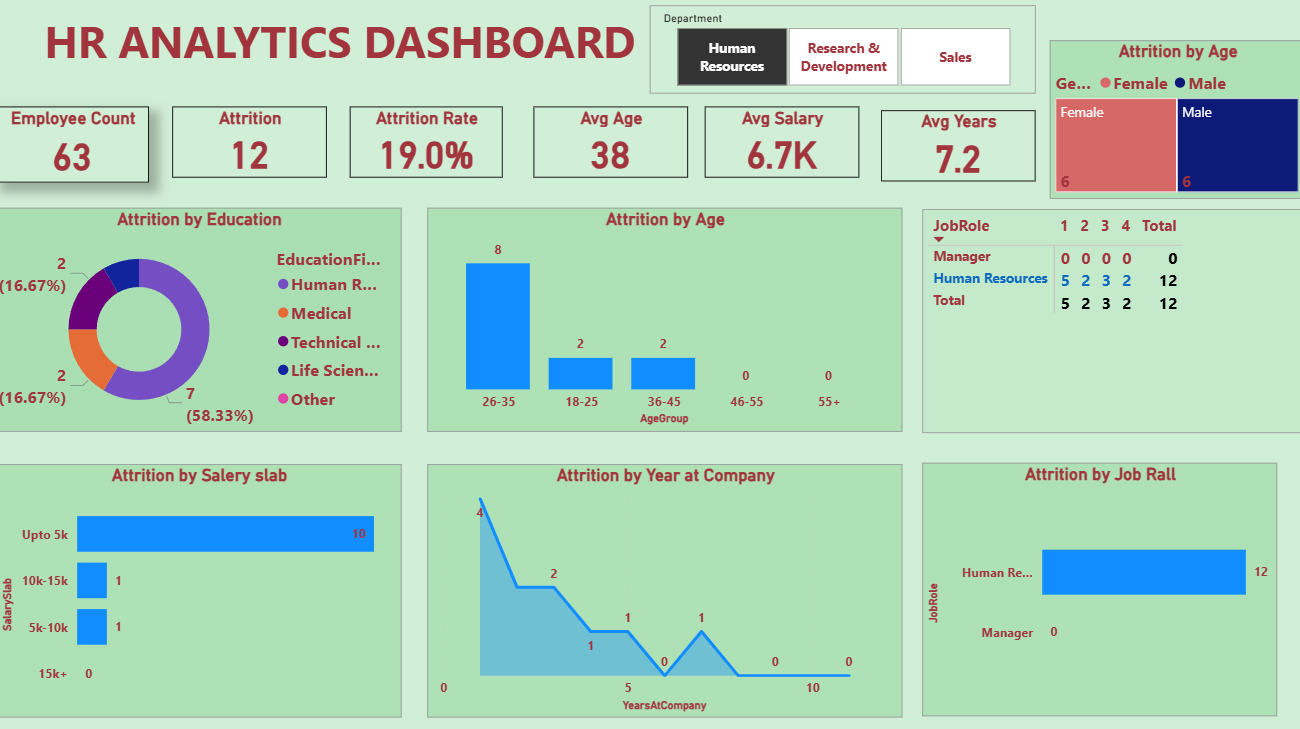

This screenshot's page, from the dashboard's own definition file:
{"tool":"powerbi","page":{"name":"Page 1","canvas":[1280,720],"ordinal":0},"visuals":[{"type":"card","title":"Employee Count","fields":{"Values":["CountNonNull(HR_Analytics.EmpID)"]},"box":[0,109.8,149.6,74.1],"z":0},{"type":"card","title":"Attrition","fields":{"Values":["Sum(HR_Analytics.Attrition Count)"]},"box":[172.9,109.8,150.9,70],"z":1000},{"type":"card","title":"Avg Age","fields":{"Values":["Avg(HR_Analytics.Age)"]},"box":[525.6,109.8,150.9,70],"z":2000},{"type":"card","title":"Attrition Rate","fields":{"Values":["HR_Analytics.Attrition Rate"]},"box":[345.8,109.8,149.6,70],"z":3000},{"type":"card","title":"Avg Salary","fields":{"Values":["Avg(HR_Analytics.MonthlyIncome)"]},"box":[693,109.8,150.9,70],"z":4000},{"type":"card","title":"Avg Years","fields":{"Values":["Avg(HR_Analytics.YearsAtCompany)"]},"box":[865.9,113.9,150.9,70],"z":5000},{"type":"donutChart","title":"Attrition by Education ","fields":{"Category":["HR_Analytics.EducationField"],"Y":["Sum(HR_Analytics.Attrition Count)"]},"box":[0,208.6,396.6,219.6],"z":6000},{"type":"columnChart","title":"Attrition by Age","fields":{"Category":["HR_Analytics.AgeGroup"],"Y":["Sum(HR_Analytics.Attrition Count)"]},"box":[421.9,209.1,464.7,218.9],"z":7000},{"type":"pivotTable","fields":{"Values":["Sum(HR_Analytics.Attrition Count)"],"Rows":["HR_Analytics.JobRole"],"Columns":["HR_Analytics.JobSatisfaction"]},"box":[906.1,210.3,374.2,218.9],"z":8000},{"type":"clusteredBarChart","title":"Attrition by Salery slab","fields":{"Category":["HR_Analytics.SalarySlab"],"Y":["Sum(HR_Analytics.Attrition Count)"]},"box":[0,459.7,396.6,248.4],"z":9000},{"type":"clusteredBarChart","title":"Attrition by Job Rall","fields":{"Category":["HR_Analytics.JobRole"],"Y":["Sum(HR_Analytics.Attrition Count)"]},"box":[906.1,458.6,347.3,248.2],"z":9001},{"type":"areaChart","title":"Attrition by Year at Company","fields":{"Category":["HR_Analytics.YearsAtCompany"],"Y":["Sum(HR_Analytics.Attrition Count)"]},"box":[421.3,459.7,465.2,248.4],"z":9002},{"type":"treemap","title":"Attrition by Age","fields":{"Group":["HR_Analytics.Gender"],"Values":["Sum(HR_Analytics.Attrition Count)"]},"box":[1030.2,45.3,249.7,155.1],"z":9003},{"type":"slicer","fields":{"Values":["HR_Analytics.Department"]},"box":[639.5,11,377.4,86.4],"z":9004},{"type":"textbox","box":[0,11,632.6,86.4],"z":9005}]}

Visuals, with their boxes in screenshot pixels (x1, y1, x2, y2), scaled from the page's 1280x720 canvas onto the 1300x729 screenshot:
"Employee Count" card: detection(0, 111, 152, 186)
"Attrition" card: detection(176, 111, 329, 182)
"Avg Age" card: detection(534, 111, 687, 182)
"Attrition Rate" card: detection(351, 111, 503, 182)
"Avg Salary" card: detection(704, 111, 857, 182)
"Avg Years" card: detection(879, 115, 1033, 186)
"Attrition by Education " donutChart: detection(0, 211, 403, 434)
"Attrition by Age" columnChart: detection(428, 212, 900, 433)
pivotTable - Sum(HR_Analytics.Attrition Count) x HR_Analytics.JobRole: detection(920, 213, 1299, 435)
"Attrition by Salery slab" clusteredBarChart: detection(0, 465, 403, 717)
"Attrition by Job Rall" clusteredBarChart: detection(920, 464, 1273, 716)
"Attrition by Year at Company" areaChart: detection(428, 465, 900, 717)
"Attrition by Age" treemap: detection(1046, 46, 1299, 203)
slicer - HR_Analytics.Department: detection(649, 11, 1033, 99)
textbox: detection(0, 11, 642, 99)
